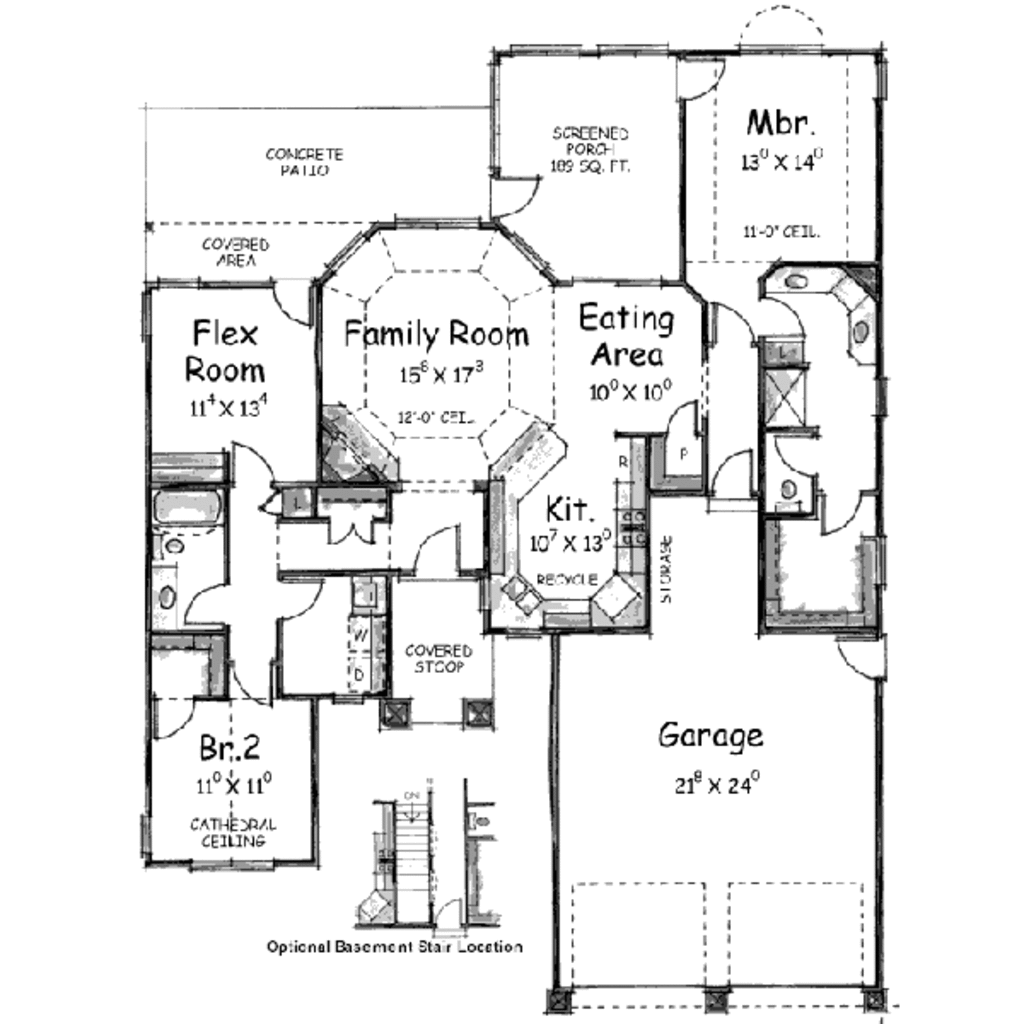door: (703, 436, 761, 521), (146, 688, 208, 754), (824, 628, 896, 684), (808, 474, 866, 543), (409, 523, 471, 584), (486, 164, 547, 224), (676, 54, 736, 107), (706, 291, 755, 355), (756, 278, 805, 342), (273, 572, 329, 627), (765, 428, 824, 476), (274, 275, 327, 328), (222, 433, 274, 487), (183, 574, 231, 630), (659, 390, 705, 444), (323, 506, 378, 550), (234, 651, 276, 706), (435, 903, 471, 947)
large_sink: (149, 527, 202, 568), (153, 566, 182, 625), (466, 802, 494, 836)
small_sink: (771, 264, 836, 300), (847, 310, 871, 363)
stairs: (389, 781, 430, 922)
tub: (144, 491, 227, 523)
twin_sink: (489, 563, 550, 639)
window: (389, 206, 489, 233), (505, 225, 555, 277), (323, 224, 374, 270), (590, 32, 672, 59), (509, 36, 585, 62)
